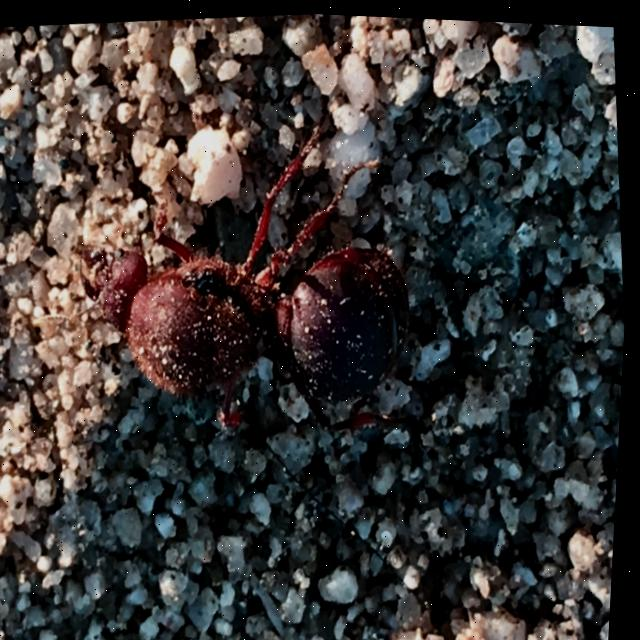Alive-Female-Dealate: (12, 95, 435, 458)
